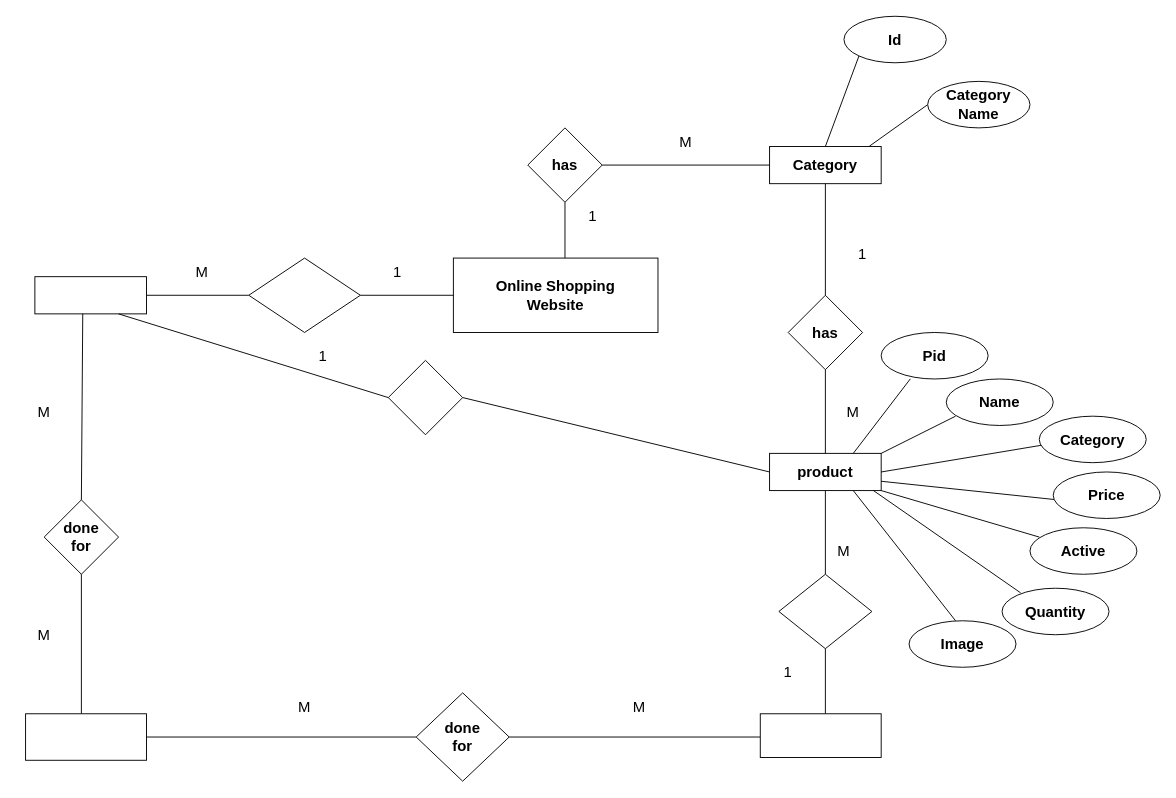
This 1176x798 diagram has some shape labels left out. The shapes that lost their labels are listed below. From the top down, each one's centre as x and y in pixels, then its label:
At point (90, 295): "Customer".
At point (304, 294): "belong".
At point (425, 397): "buy".
At point (825, 611): "added item".
At point (85, 736): "cart".
At point (820, 735): "Cart Item".
